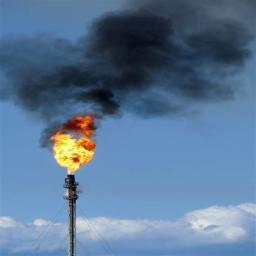fire: (50, 116, 96, 173)
smoke: (16, 0, 256, 153)
